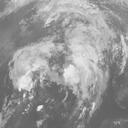cyclone: (42, 46, 93, 96)
